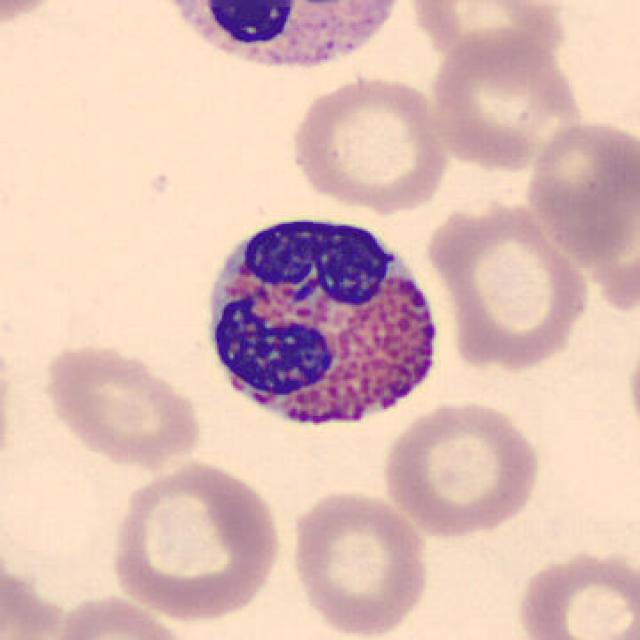Eosinophil: (194, 198, 453, 446)
Monocyte: (158, 0, 425, 80)
RBC: (107, 455, 286, 624), (422, 196, 590, 372), (284, 71, 452, 215), (379, 396, 544, 540), (425, 24, 585, 172), (284, 485, 434, 638), (38, 338, 204, 469), (521, 114, 638, 264), (403, 0, 572, 71), (512, 546, 638, 640), (0, 561, 93, 640), (46, 590, 192, 640), (0, 319, 20, 497), (0, 0, 71, 33), (624, 325, 640, 453)
